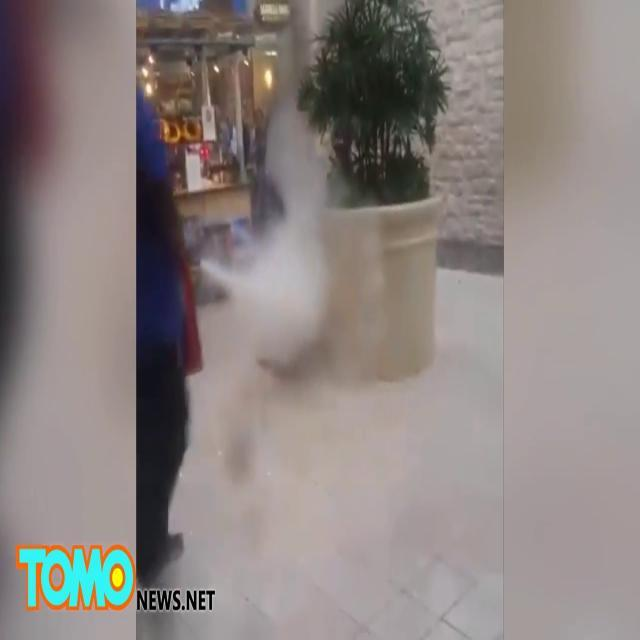Smoke: (223, 16, 341, 362)
